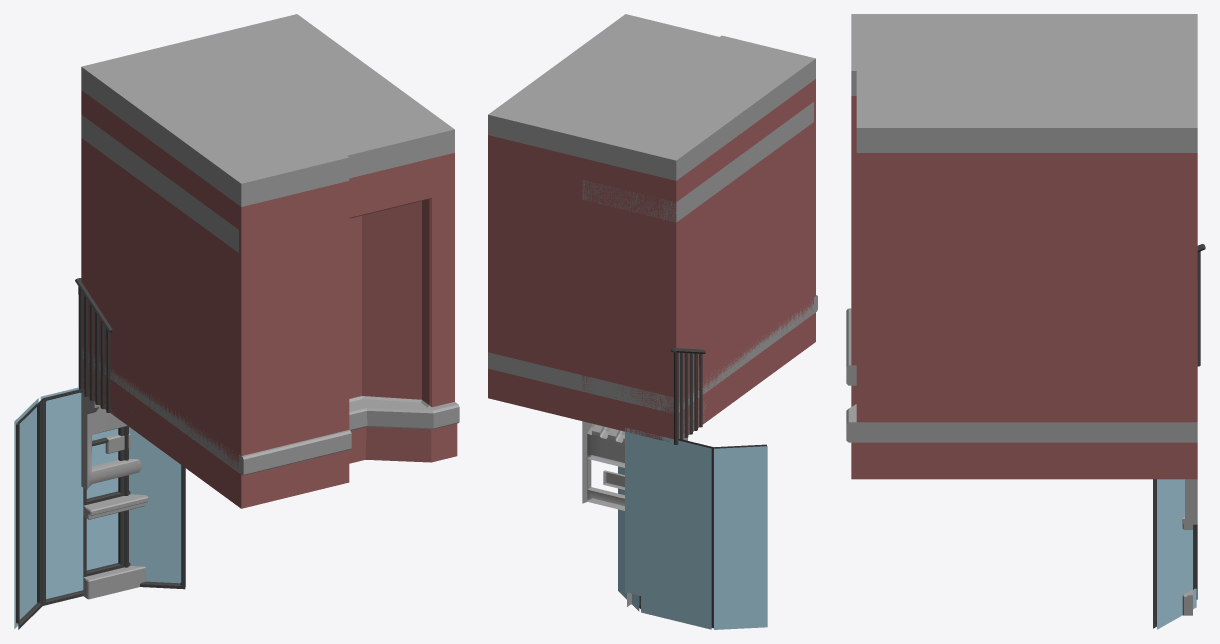
Rendered from ApartmentsPeices.fbx.
The picture shows the model from 3 angles, left to right: view 1: azimuth 30°, elevation 25°; view 2: azimuth 150°, elevation 25°; view 3: azimuth 270°, elevation 25°; orthographic projection. The views are drawn at different scales.
Visible parts, largest first — view 1: Apparment_MainDoubleWithWindow, Apparment_MainUpperLayer, Apparment_MainBlank, Apparment_LowerDoubleWindow, Apparment_MainWithDoor, Apparment_MainWithWindow, Apparment_MainBlankWithFront, Apparment_StairRailing, Apparment_LowerWindow, Apparment_LargeTopPeripheral, Apparment_Window, Apparment_SmallTopPeripheral; view 2: Apparment_MainDoubleWithWindow, Apparment_MainUpperLayer, Apparment_MainWithWindow, Apparment_MainWithDoor, Apparment_LowerDoubleWindow, Apparment_MainBlank, Apparment_Window, Apparment_MainBlankWithFront, Apparment_LowerWindow, Apparment_StairRailing, Apparment_SmallTopPeripheral, Apparment_LargeTopPeripheral (+1 smaller); view 3: Apparment_MainDoubleWithWindow, Apparment_MainWithDoor, Apparment_MainBlank, Apparment_MainWithWindow, Apparment_LowerDoubleWindow, Apparment_MainBlankWithFront, Apparment_LargeTopPeripheral, Apparment_LowerWindow, Apparment_StairRailing.
Boxes of the visible parts, <box> form: Apparment_MainDoubleWithWindow: <box>82,14,459,506</box>; Apparment_MainUpperLayer: <box>81,115,238,500</box>; Apparment_MainBlank: <box>94,63,349,507</box>; Apparment_LowerDoubleWindow: <box>14,387,185,629</box>; Apparment_MainWithDoor: <box>81,40,351,508</box>; Apparment_MainWithWindow: <box>82,59,351,508</box>; Apparment_MainBlankWithFront: <box>82,41,351,507</box>; Apparment_StairRailing: <box>75,278,112,412</box>; Apparment_LowerWindow: <box>82,434,145,599</box>; Apparment_LargeTopPeripheral: <box>81,410,142,489</box>; Apparment_Window: <box>82,429,148,519</box>; Apparment_SmallTopPeripheral: <box>81,392,127,440</box>; Apparment_MainDoubleWithWindow: <box>488,14,817,442</box>; Apparment_MainUpperLayer: <box>582,102,813,438</box>; Apparment_MainWithWindow: <box>582,37,817,438</box>; Apparment_MainWithDoor: <box>582,50,817,422</box>; Apparment_LowerDoubleWindow: <box>618,439,767,629</box>; Apparment_MainBlank: <box>586,35,815,438</box>; Apparment_Window: <box>625,427,676,541</box>; Apparment_MainBlankWithFront: <box>582,39,816,436</box>; Apparment_LowerWindow: <box>625,437,676,606</box>; Apparment_StairRailing: <box>670,348,705,444</box>; Apparment_SmallTopPeripheral: <box>582,421,687,467</box>; Apparment_LargeTopPeripheral: <box>582,435,624,510</box>; Apparment_MainDoubleWithWindow: <box>846,14,1197,479</box>; Apparment_MainWithDoor: <box>846,14,1197,406</box>; Apparment_MainBlank: <box>851,14,1192,405</box>; Apparment_MainWithWindow: <box>846,14,1197,366</box>; Apparment_LowerDoubleWindow: <box>1153,479,1197,629</box>; Apparment_MainBlankWithFront: <box>846,14,1197,385</box>; Apparment_LargeTopPeripheral: <box>1185,479,1197,524</box>; Apparment_LowerWindow: <box>1182,524,1197,615</box>; Apparment_StairRailing: <box>1197,244,1205,366</box>.
Size of the model in its own units: 504 by 843 by 481.
